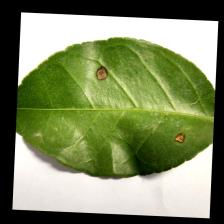canker: (90, 58, 194, 152)
